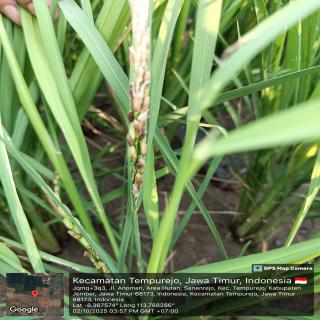Busuk-Bulir: (135, 172, 143, 190), (134, 120, 143, 135), (139, 128, 147, 141), (140, 143, 148, 156), (136, 158, 145, 169), (128, 111, 134, 122), (127, 135, 133, 146)
